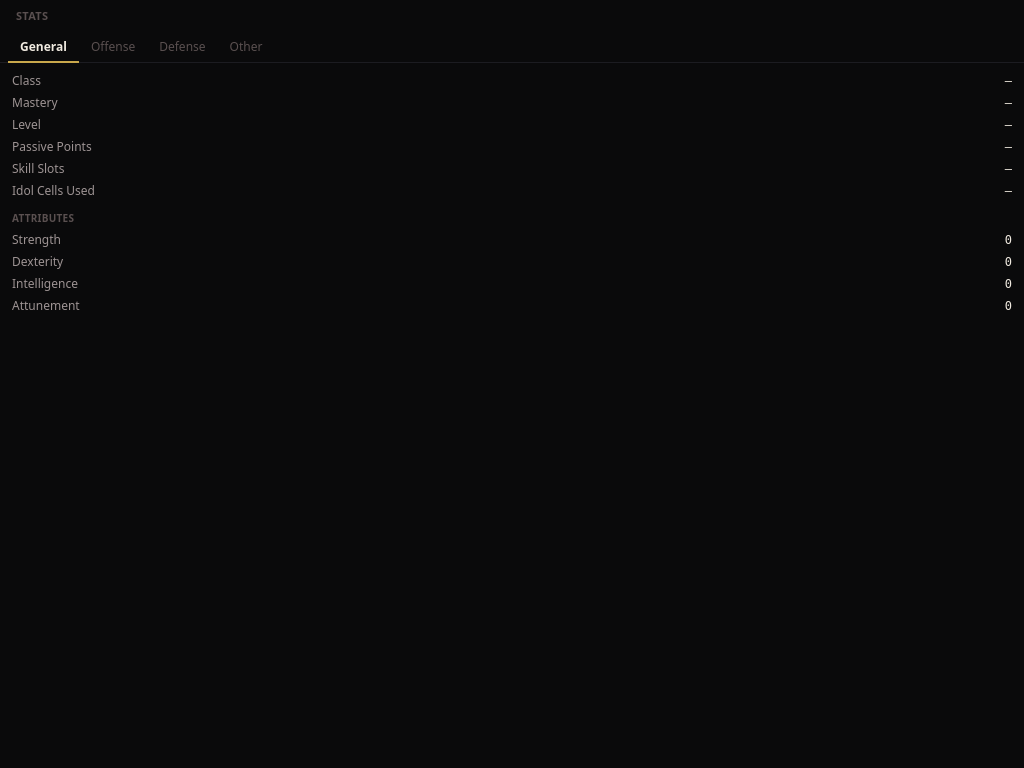
Test case: StatSheetPanel › renders EHP triple, Stable Ward, Necrotic Res, and new defensive layers (1.6 AC1)
This screenshot has width=1024, height=768.
Step 1. Click the tab "Defense" → (182, 48), box [147,32,218,62]
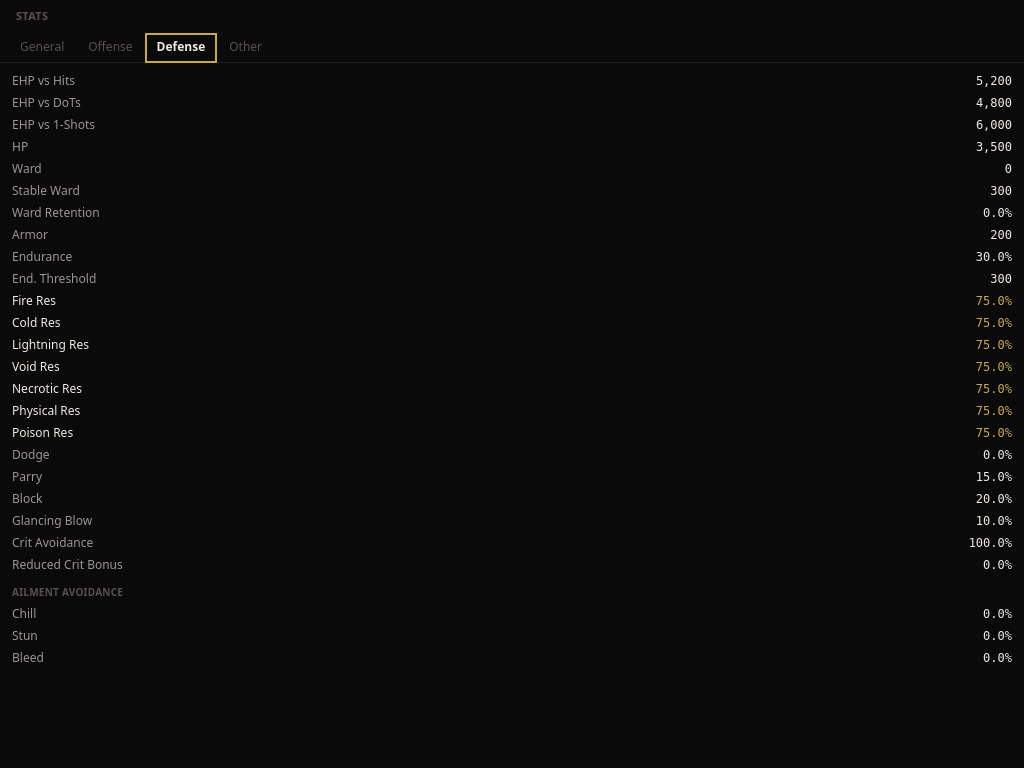
Now the text "EHP vs Hits" is shown, box [12,72,75,88]
Now the text "EHP vs DoTs" is shown, box [12,94,81,110]
Now the text "EHP vs 1-Shots" is shown, box [12,116,95,132]
